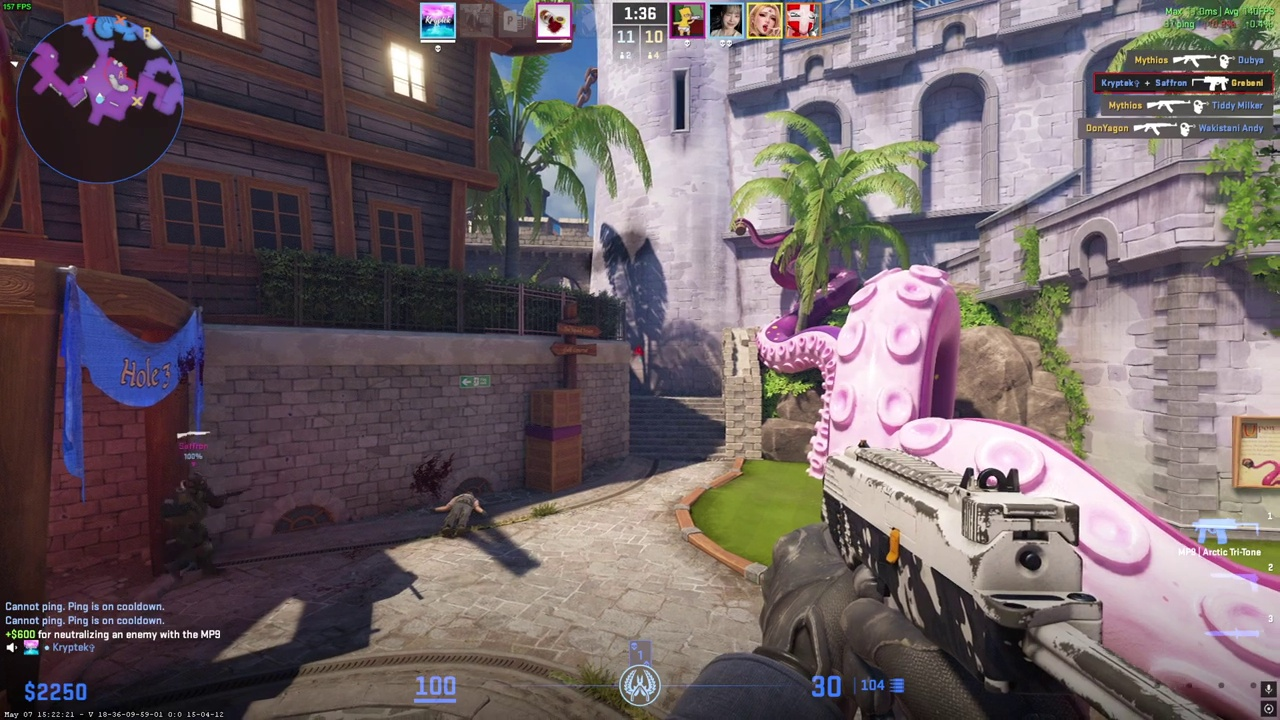CT: (161, 471, 226, 583)
